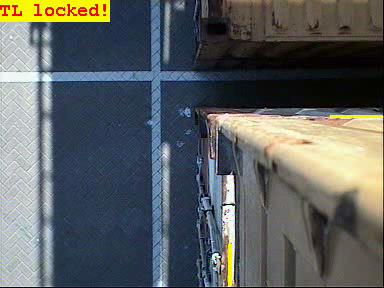groundmarker_2: (131, 50, 172, 106), (133, 220, 174, 276)
